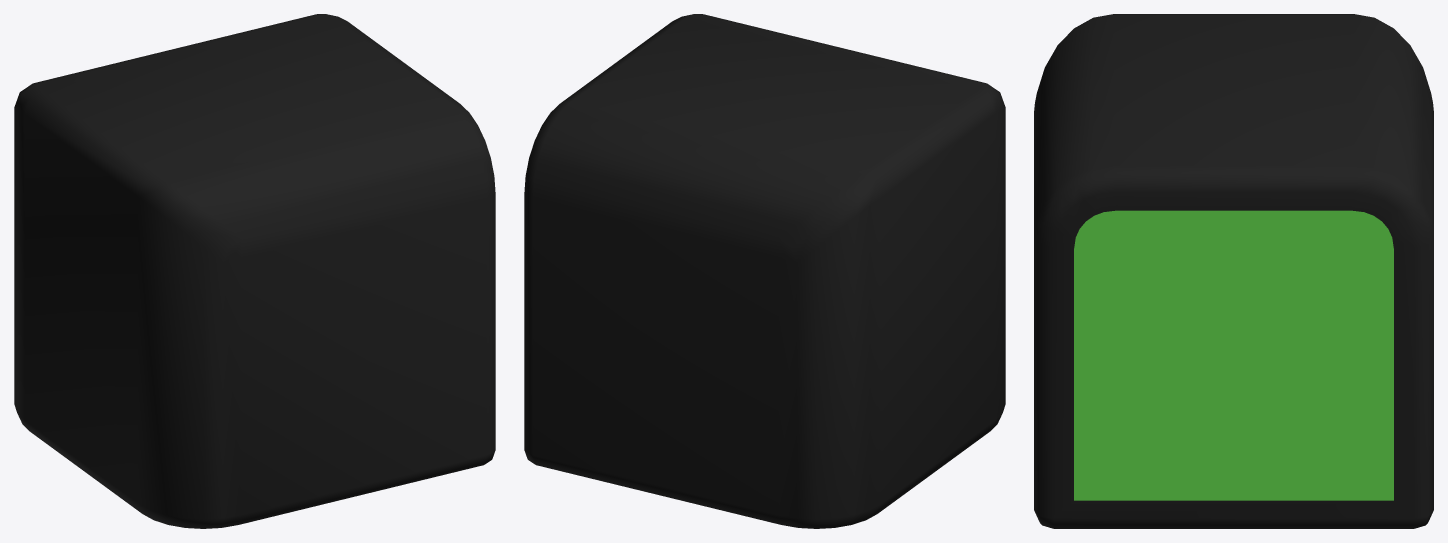
The picture shows the model from 3 angles, left to right: view 1: azimuth 30°, elevation 25°; view 2: azimuth 150°, elevation 25°; view 3: azimuth 270°, elevation 25°; orthographic projection. The views are drawn at different scales.
Visible parts, largest first — view 1: 8; view 2: 8; view 3: 8.
Boxes of the visible parts, left/top/right/bottom form: 8: left=14, top=14, right=495, bottom=528; 8: left=524, top=14, right=1005, bottom=528; 8: left=1034, top=14, right=1433, bottom=528.
Size of the model in its own units: 2 by 2 by 2.
